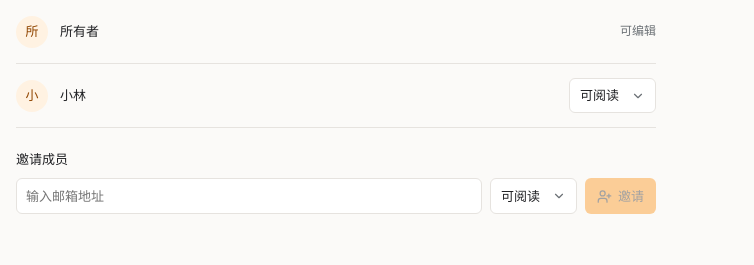
Test: retains an invitation on failure and delegates controlled permissions
The width and height of the screenshot is (754, 265).
Click the dropdown named "小林的权限" at (612, 96), box [569,78,656,113]
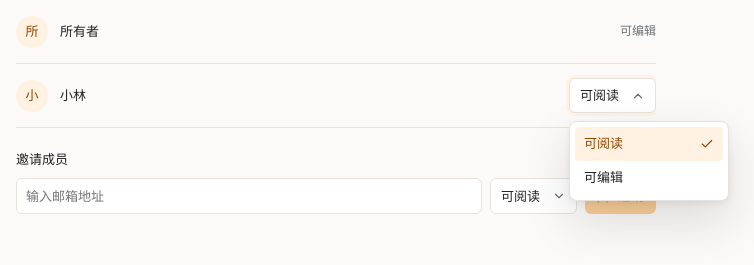
Click the option "可编辑" at (649, 178), box [575,160,723,194]
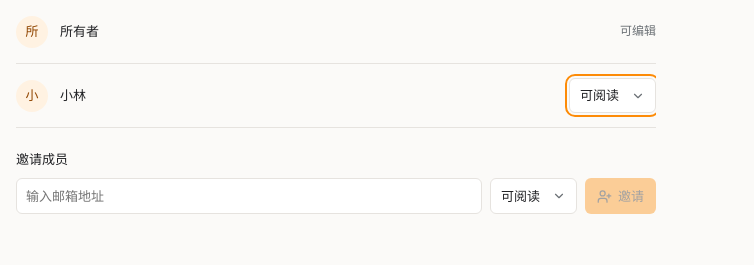
Type "reader@example.com" into the field labelled "邀请成员" at (249, 196), box [16,178,482,214]
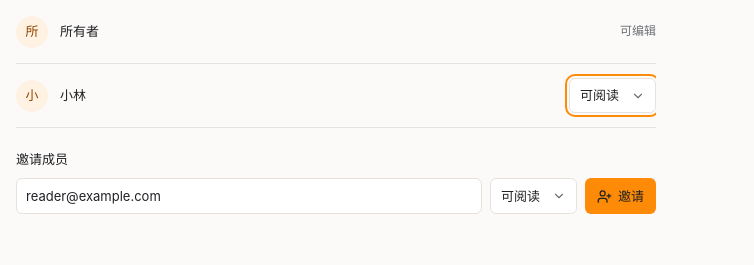
Click the button "邀请" at (620, 196), box [585,178,656,214]
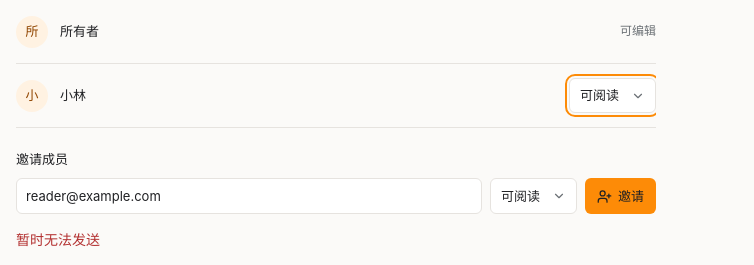
expect the text "暂时无法发送" is shown: met, box [16,231,100,248]
Click the button "邀请" at (620, 196), box [585,178,656,214]
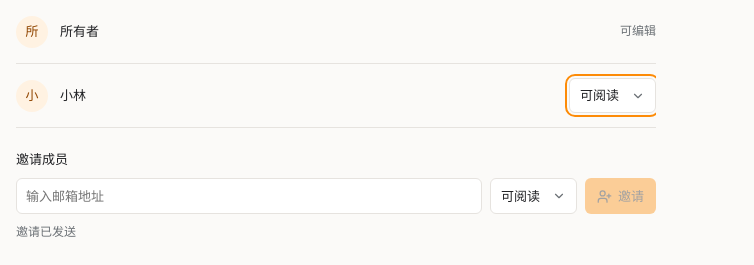
expect the text "邀请已发送" is shown: met, box [16,224,76,239]
expect the field labelled "邀请成员" is empty: met, box [16,178,482,214]
